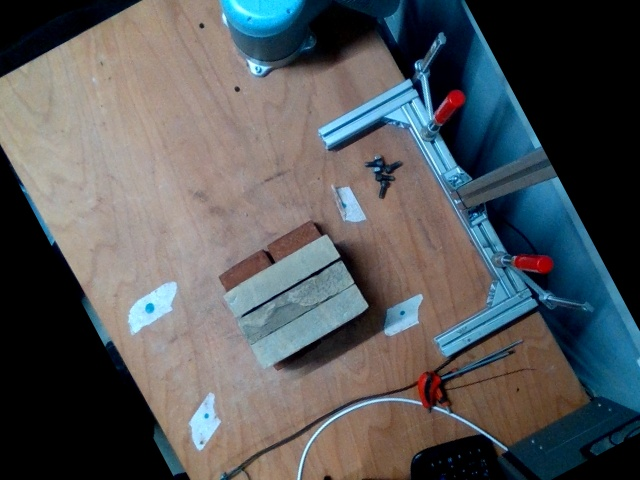brick-side: (249, 284, 367, 371), (236, 259, 354, 346), (221, 233, 339, 320)
